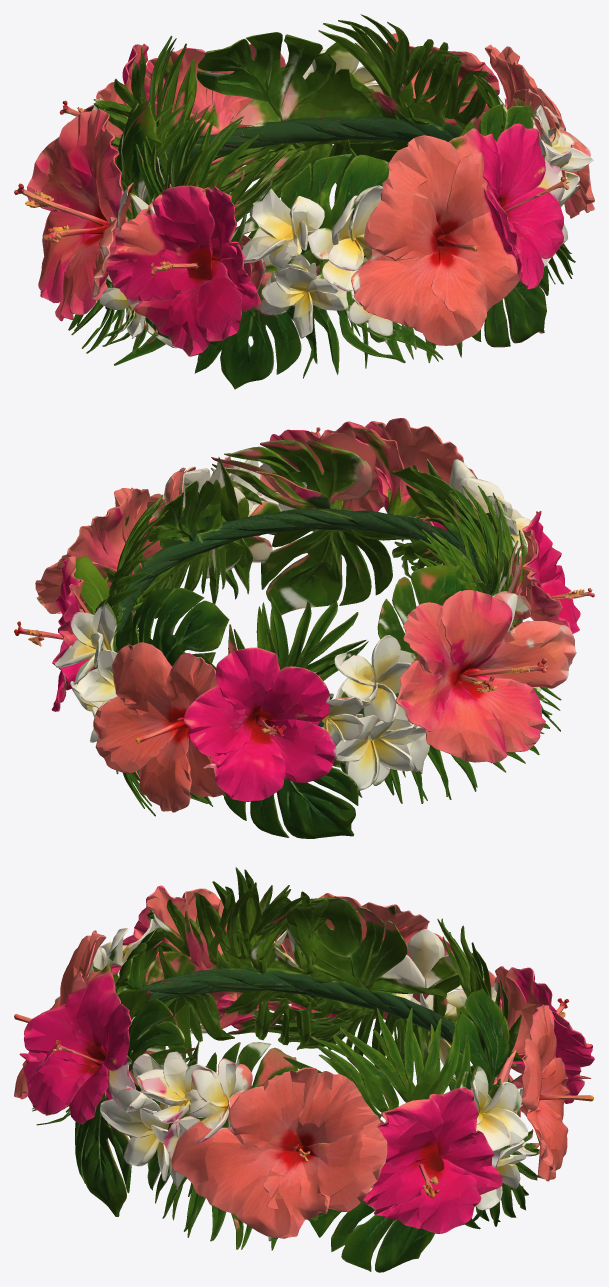
File: hibiscus-crown.glb
3 views of the same model, one above another, from view 1: azimuth 30°, elevation 25°; view 2: azimuth 150°, elevation 25°; view 3: azimuth 270°, elevation 25° (orthographic). The views are drawn at different scales.
Visible parts, largest first — view 1: Mesh_0; view 2: Mesh_0; view 3: Mesh_0.
Part boxes in pixels (bbox=[...]): Mesh_0: bbox=[14, 14, 594, 389]; Mesh_0: bbox=[14, 418, 594, 838]; Mesh_0: bbox=[14, 867, 594, 1272].
Size of the model in its own units: 23.08 by 11.88 by 23.8.
Materials: 1 (1 with a texture image).
